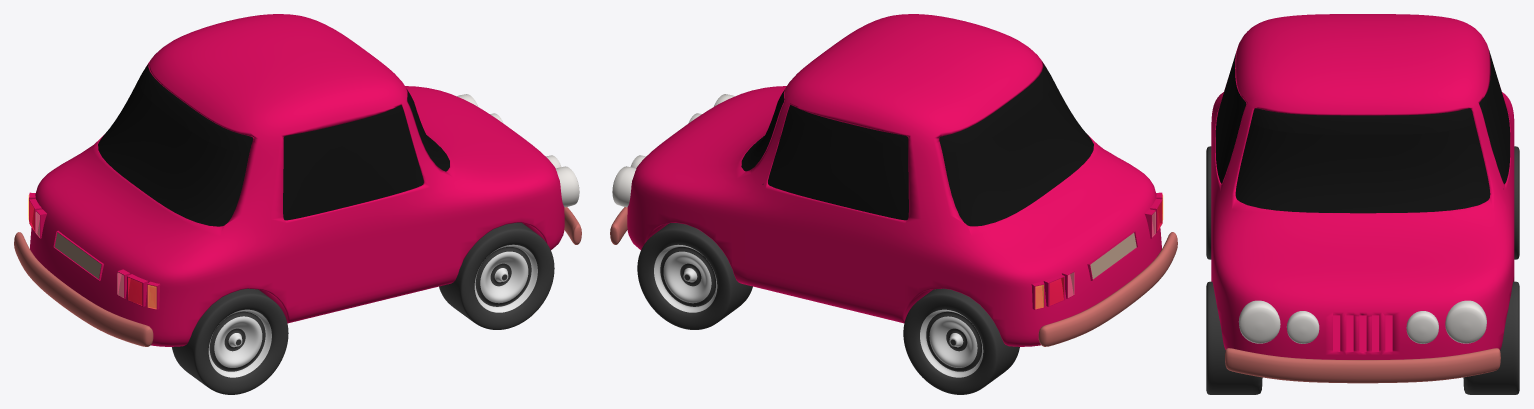
File: car.glb
3 renders of one model, left to right at view 1: azimuth 30°, elevation 25°; view 2: azimuth 150°, elevation 25°; view 3: azimuth 270°, elevation 25°, orthographic. The views are drawn at different scales.
Visible parts, largest first — view 1: Body, Cube.003, Cylinder.004, Cylinder.005, Cube.004, Cube.012, Sphere, Cube.010, Cube.011; view 2: Body, Cube.003, Cylinder.006, Cylinder.007, Cube.004, Cube.012, Sphere, Cube.010, Cube.011; view 3: Body, Cube.003, Cube.005, Sphere, Cylinder.007, Cylinder.005, Sphere.001, Cylinder.004, Cylinder.006.
Part boxes in pixels (x1,y1,x2,y2): Body: (30,14,564,346); Cube.003: (98,64,449,226); Cylinder.004: (172,288,288,394); Cylinder.005: (439,222,554,329); Cube.004: (14,232,153,346); Cube.012: (53,230,103,280); Sphere: (457,94,579,207); Cube.010: (29,198,148,306); Cube.011: (36,209,129,298); Body: (627,14,1161,346); Cube.003: (741,64,1093,226); Cylinder.006: (903,288,1019,394); Cylinder.007: (637,223,752,329); Cube.004: (1038,232,1177,346); Cube.012: (1087,231,1138,280); Sphere: (612,94,734,207); Cube.010: (1043,198,1162,306); Cube.011: (1061,209,1155,298); Body: (1211,14,1514,359); Cube.003: (1215,50,1510,213); Cube.005: (1225,348,1500,383); Sphere: (1238,300,1486,343); Cylinder.007: (1463,281,1519,394); Cylinder.005: (1206,281,1262,394); Sphere.001: (1286,311,1438,343); Cylinder.004: (1206,146,1211,259); Cylinder.006: (1514,146,1519,259).
Bounding box in the file's own units: 0.4772 × 0.2522 × 0.2629.
